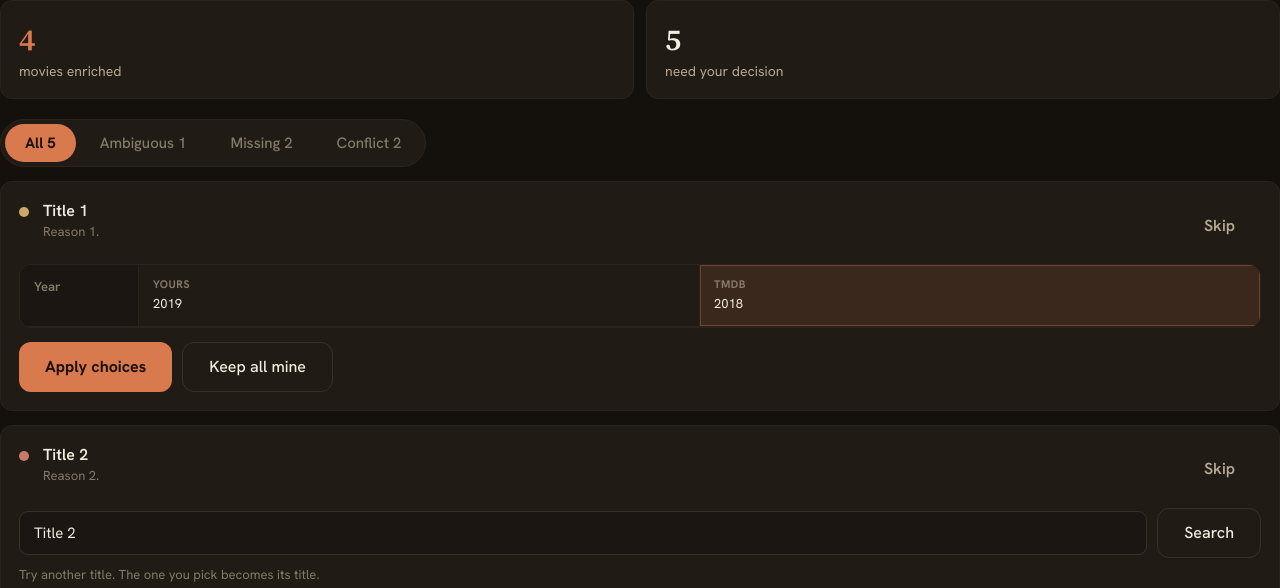
Test: EnrichmentReview — Skip all beside a chosen kind › draws Skip all beside the filter once Conflict 2 is chosen
Click the button "Conflict 2" at (369, 143), box [317,124,422,162]
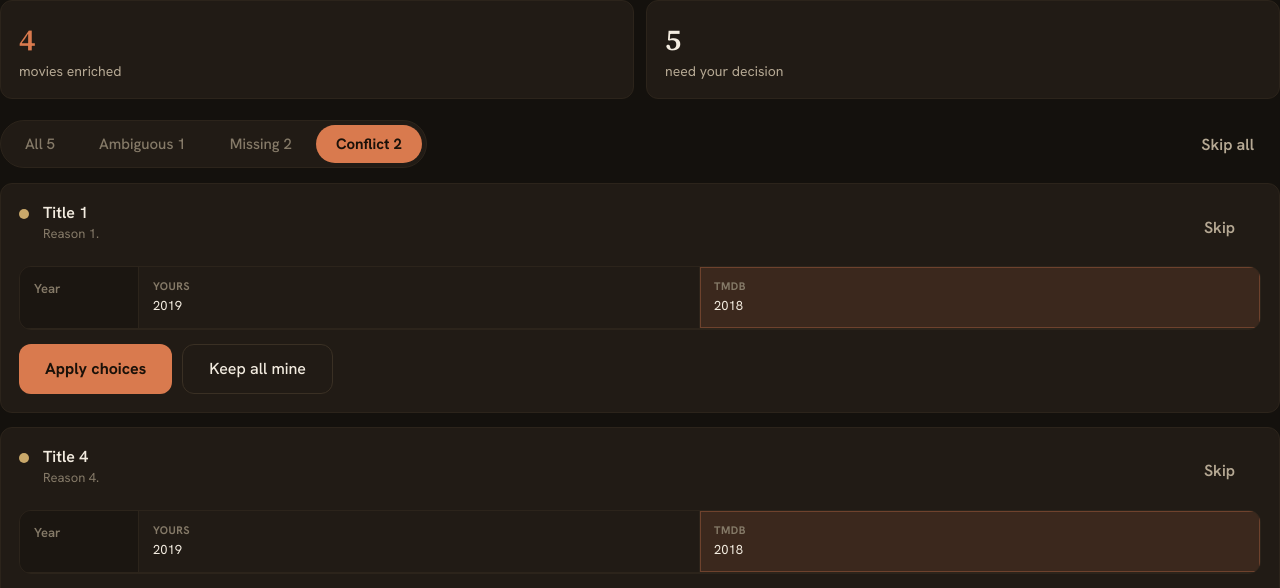
Now the button "Skip all" is shown, box [1175,119,1279,169]
